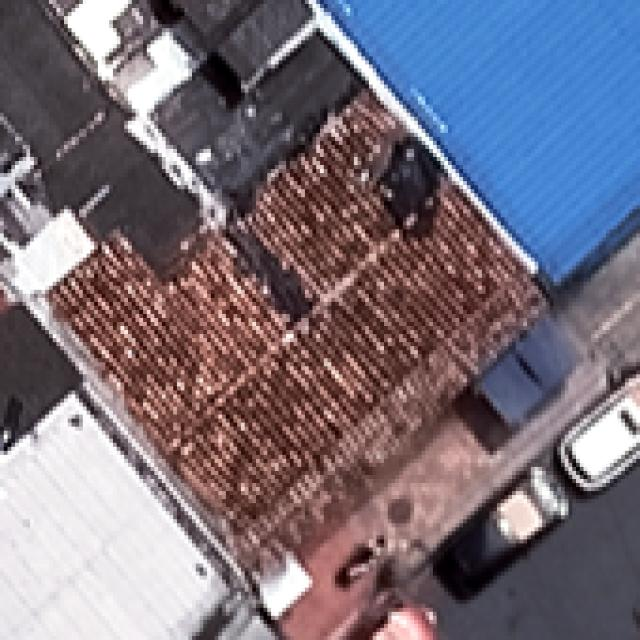Batiment: (49, 91, 544, 567), (0, 394, 228, 638)
